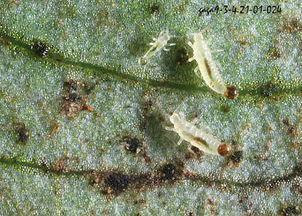tiny_pests: (152, 108, 249, 163), (182, 25, 240, 98)
